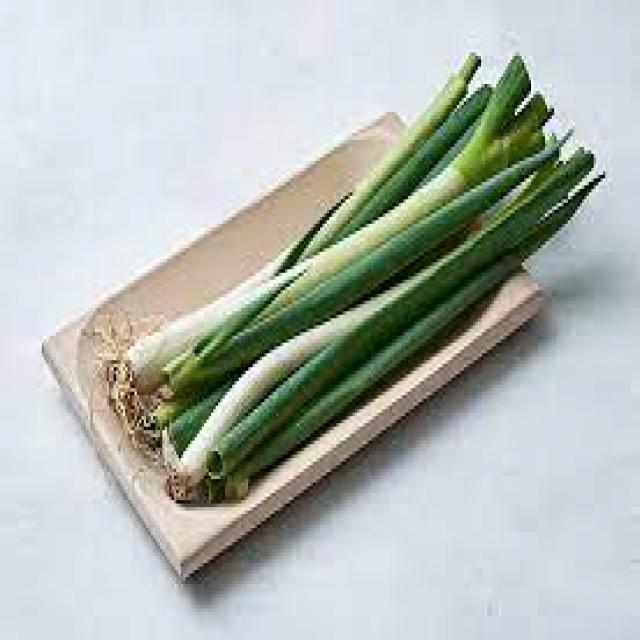spring_onion: (123, 56, 605, 505)
